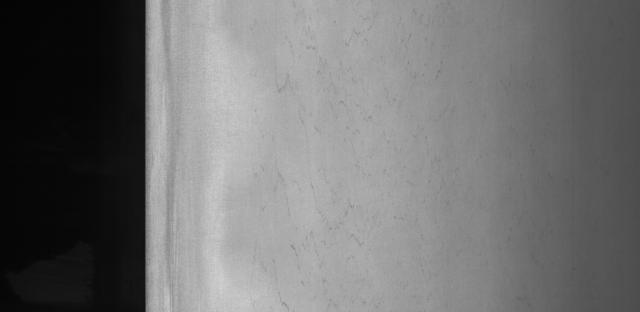silk_spot: (247, 9, 411, 312)
